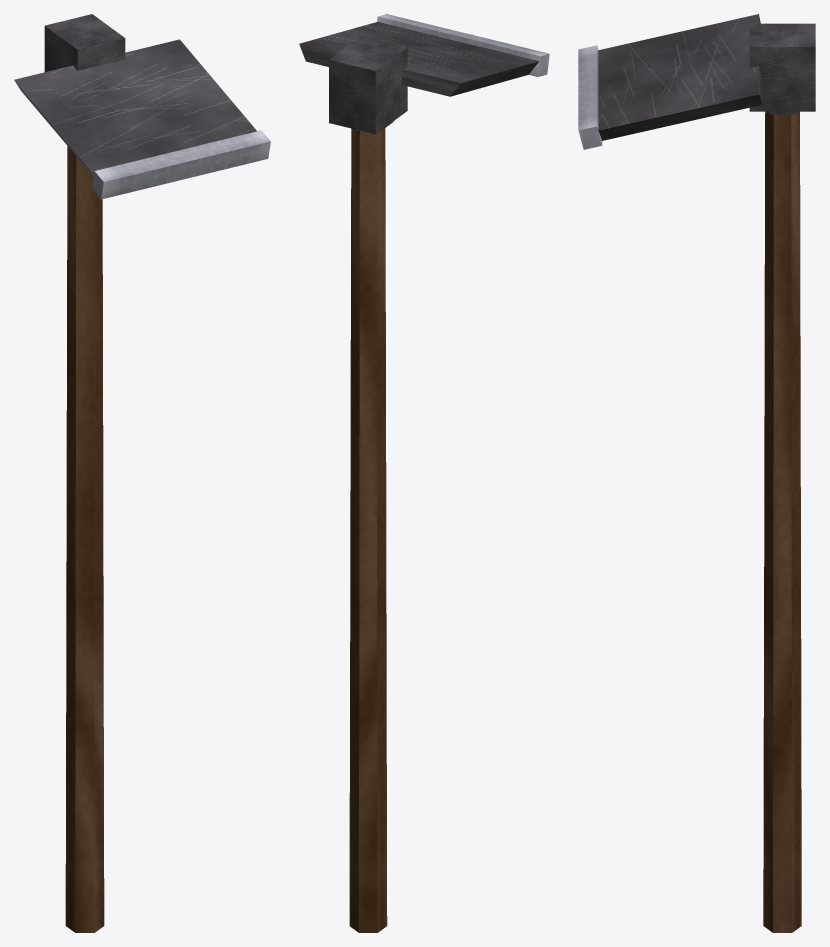
The model's file is Hoe.fbx.
3 views of the same model, side by side, from view 1: azimuth 30°, elevation 25°; view 2: azimuth 150°, elevation 25°; view 3: azimuth 270°, elevation 25° (orthographic). The views are drawn at different scales.
Parts seen in each view (by area): view 1: Handle, Head; view 2: Handle, Head; view 3: Handle, Head.
Part boxes in pixels (x1,y1,x2,y2): Handle: (65, 146, 104, 932); Head: (14, 14, 270, 199); Handle: (349, 121, 393, 932); Head: (299, 14, 549, 134); Handle: (763, 111, 801, 932); Head: (578, 14, 815, 149).
Bounding box in the file's own units: 70 × 358 × 86.36.
1 material, 1 textured.
